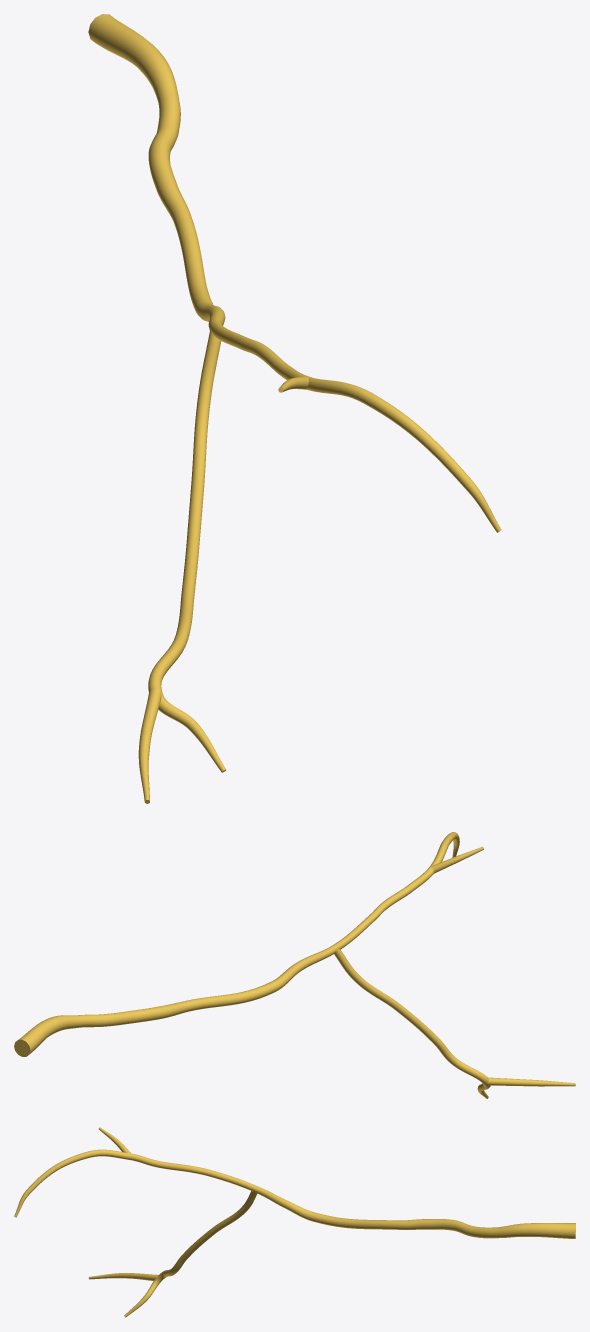
File: Oculomotor_nerve_III_right.glb
The picture shows the model from 3 angles, top to bottom: view 1: azimuth 30°, elevation 25°; view 2: azimuth 150°, elevation 25°; view 3: azimuth 270°, elevation 25°; orthographic projection. The views are drawn at different scales.
Visible parts, largest first — view 1: Occulomotor_nerve_(III).r_BezierCurve.496; view 2: Occulomotor_nerve_(III).r_BezierCurve.496; view 3: Occulomotor_nerve_(III).r_BezierCurve.496.
Boxes of the visible parts, x1,y1,x2,y2 form: Occulomotor_nerve_(III).r_BezierCurve.496: (88,14,501,803); Occulomotor_nerve_(III).r_BezierCurve.496: (14,832,575,1098); Occulomotor_nerve_(III).r_BezierCurve.496: (14,1127,575,1317).
Bounding box in the file's own units: 0.0393 × 0.0325 × 0.0835.
